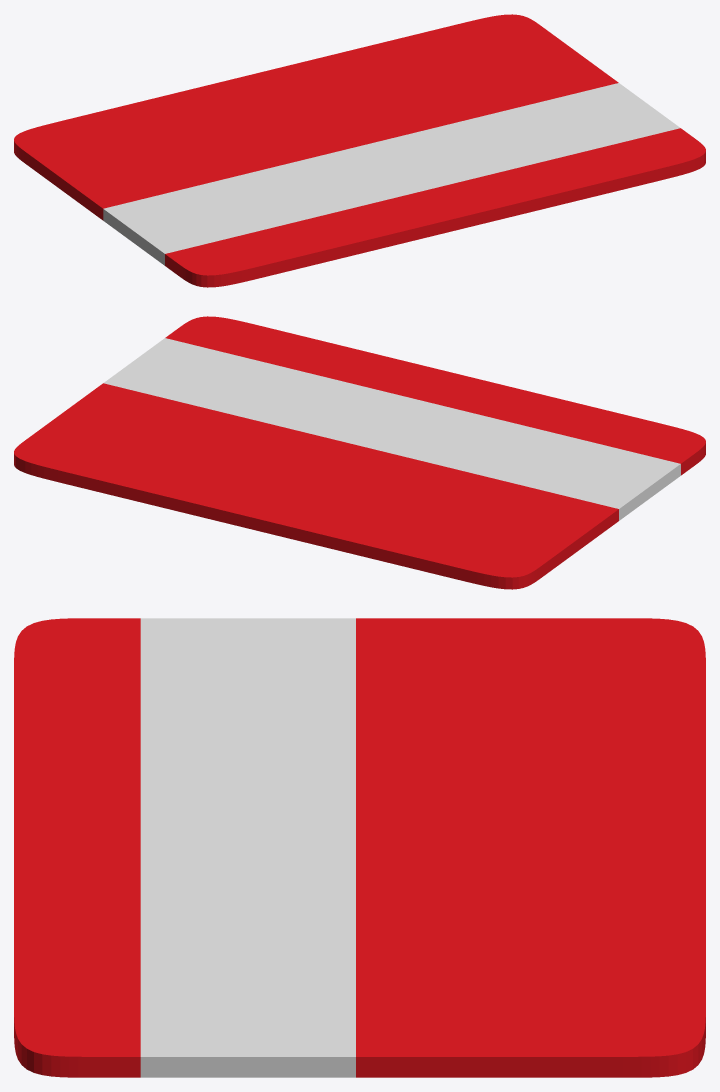
Rendered from ProjectRoom_Keycards.fbx.
3 renders of one model, top to bottom at view 1: azimuth 30°, elevation 25°; view 2: azimuth 150°, elevation 25°; view 3: azimuth 270°, elevation 25°, orthographic. The views are drawn at different scales.
Parts seen in each view (by area): view 1: Keycard; view 2: Keycard; view 3: Keycard.
Boxes of the visible parts, x1=… form: Keycard: x1=14, y1=14, x2=705, y2=287; Keycard: x1=14, y1=316, x2=705, y2=589; Keycard: x1=14, y1=618, x2=705, y2=1077.
Size of the model in its own units: 45 by 1 by 30.
